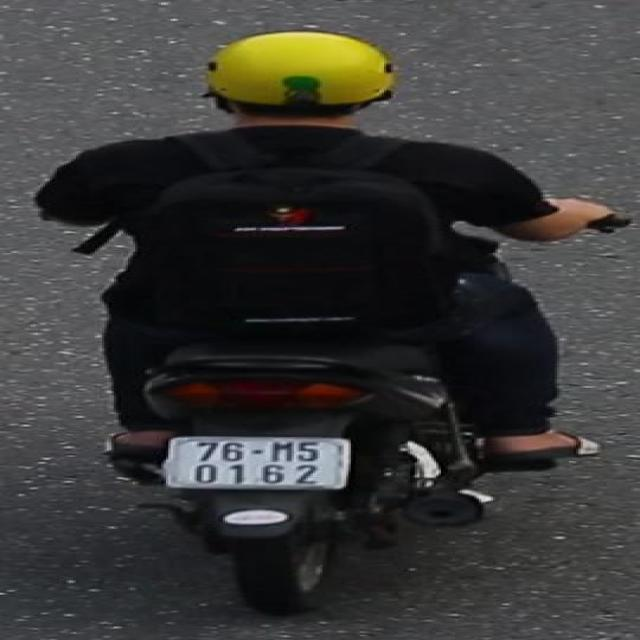LP: (160, 432, 357, 492)
helmet: (193, 28, 407, 140)
